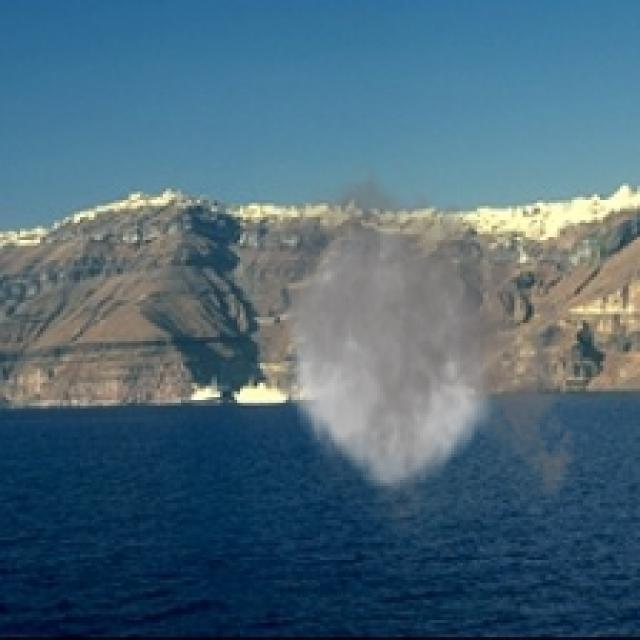Smoke: (231, 148, 586, 563)
